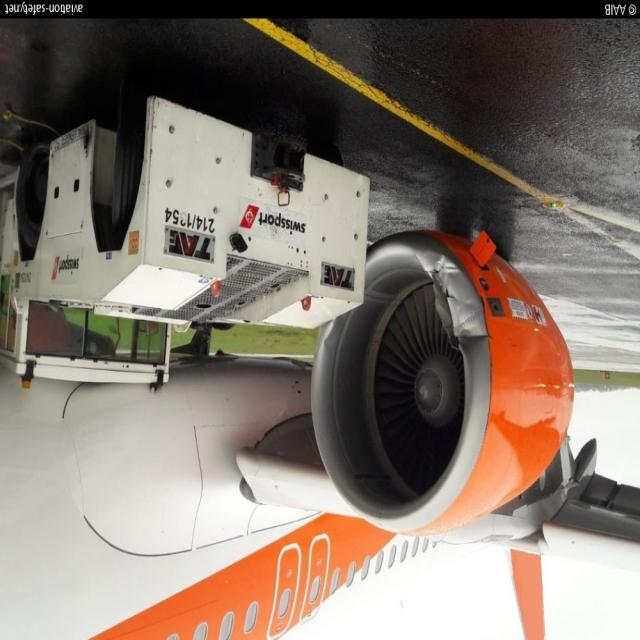crack: (433, 274, 462, 352)
dent: (460, 300, 490, 350), (315, 313, 352, 353), (437, 257, 463, 280)
